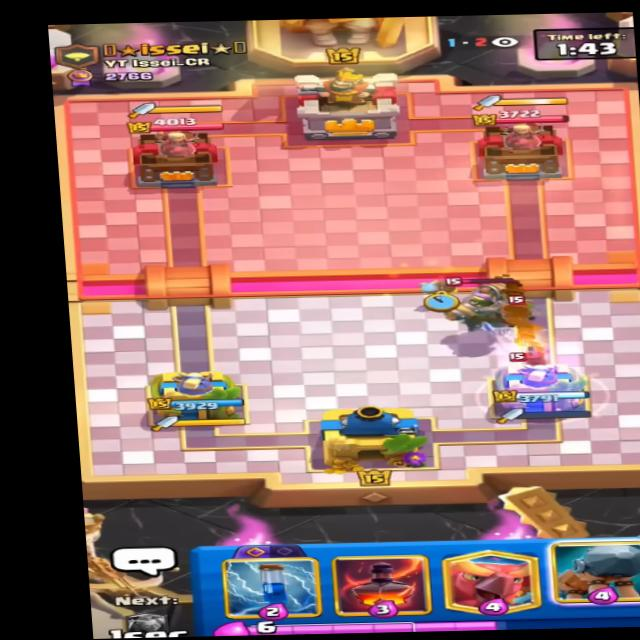goblin-machine: (432, 275, 547, 338)
